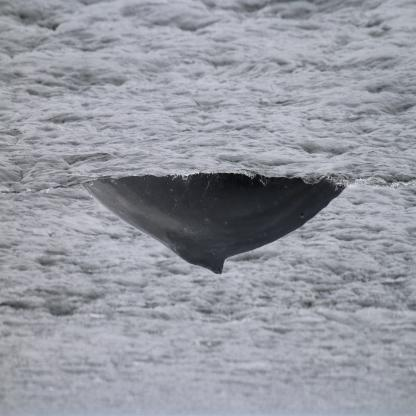dolphin-whale: (75, 171, 353, 276)
